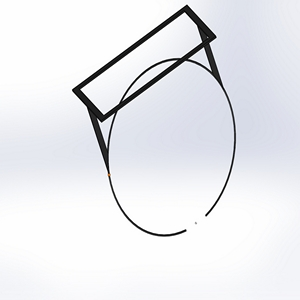circle: (69, 2, 238, 237)
